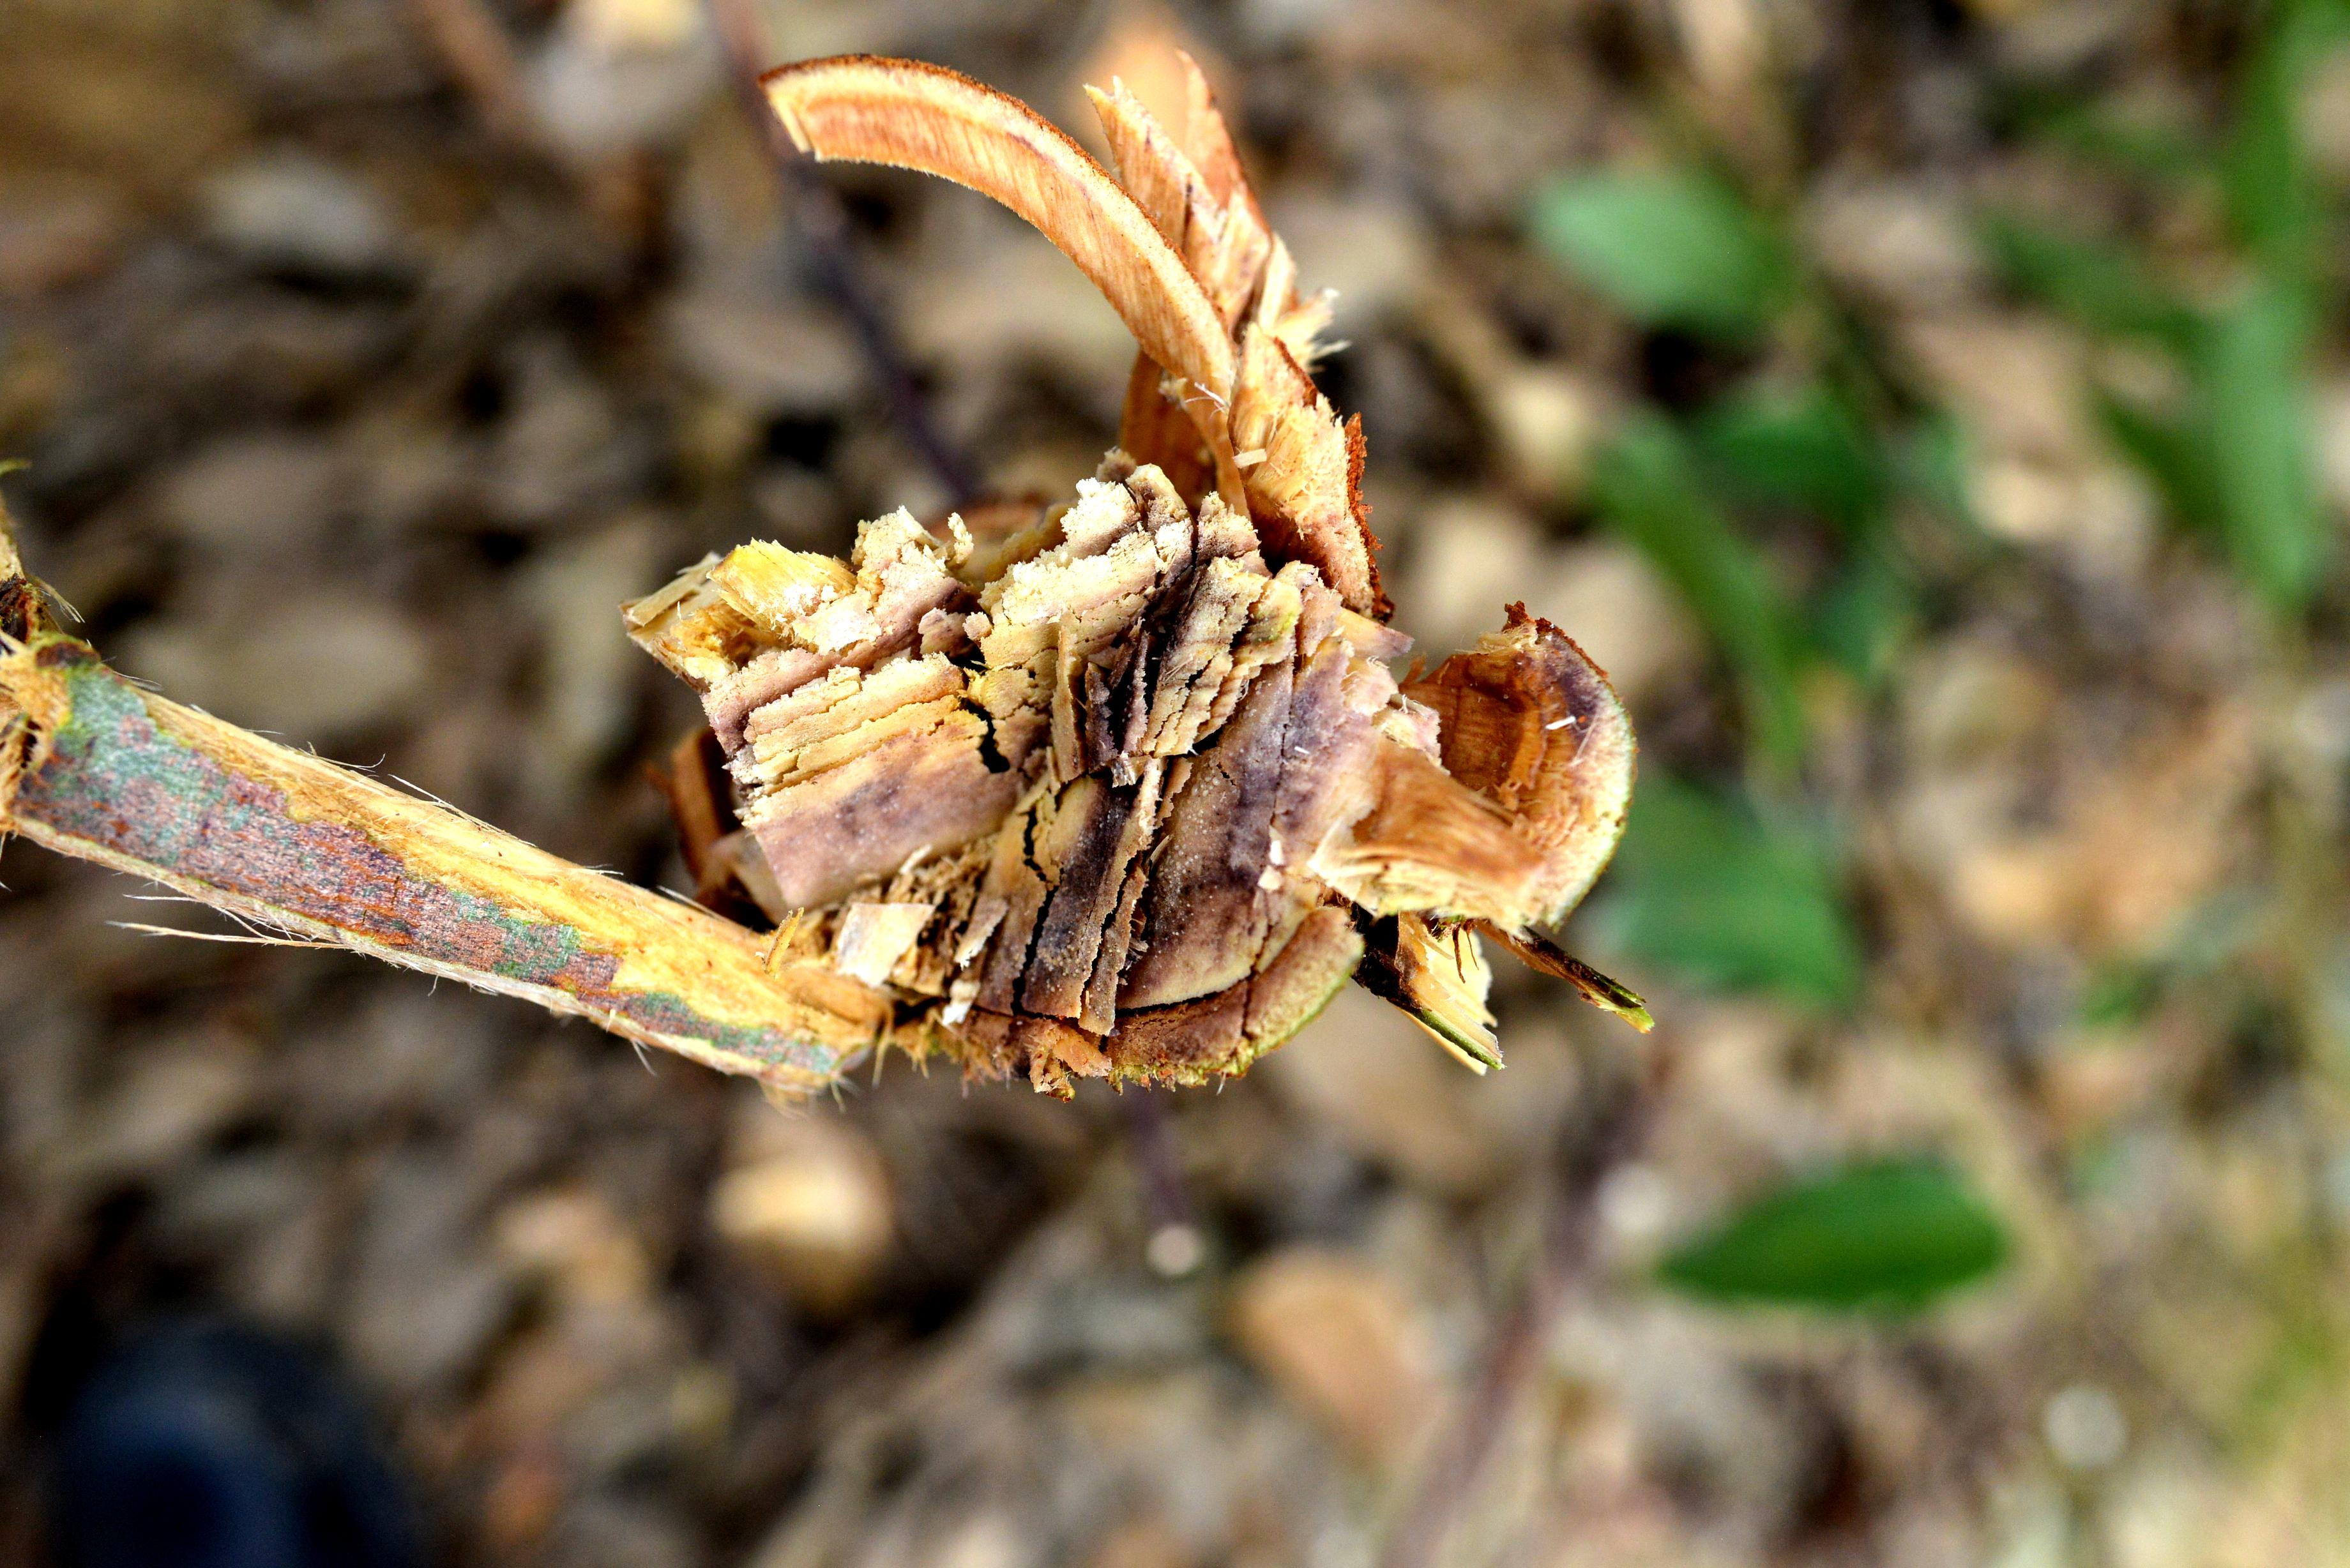Ralstonia: (1141, 758, 1236, 940), (803, 761, 929, 884), (1060, 798, 1130, 866)
